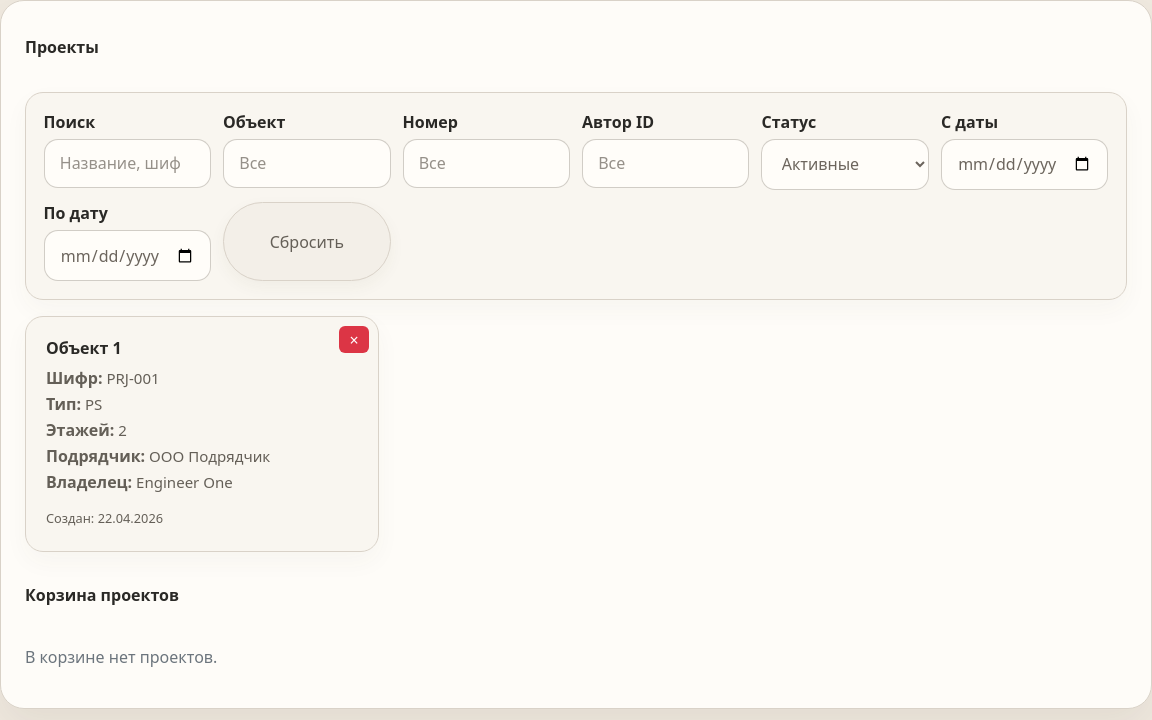
Test case: ProjectList › loads and renders projects with owner, then moves a project to trash after confirmation
Expected: the heading "Объект 1" is shown, [46, 337, 122, 359]
Expected: the text "Шифр: PRJ-001" is shown, [46, 367, 160, 389]
Click the button titled "Переместить проект".
click(354, 340)  # box [339, 326, 369, 353]
(page scrolled)
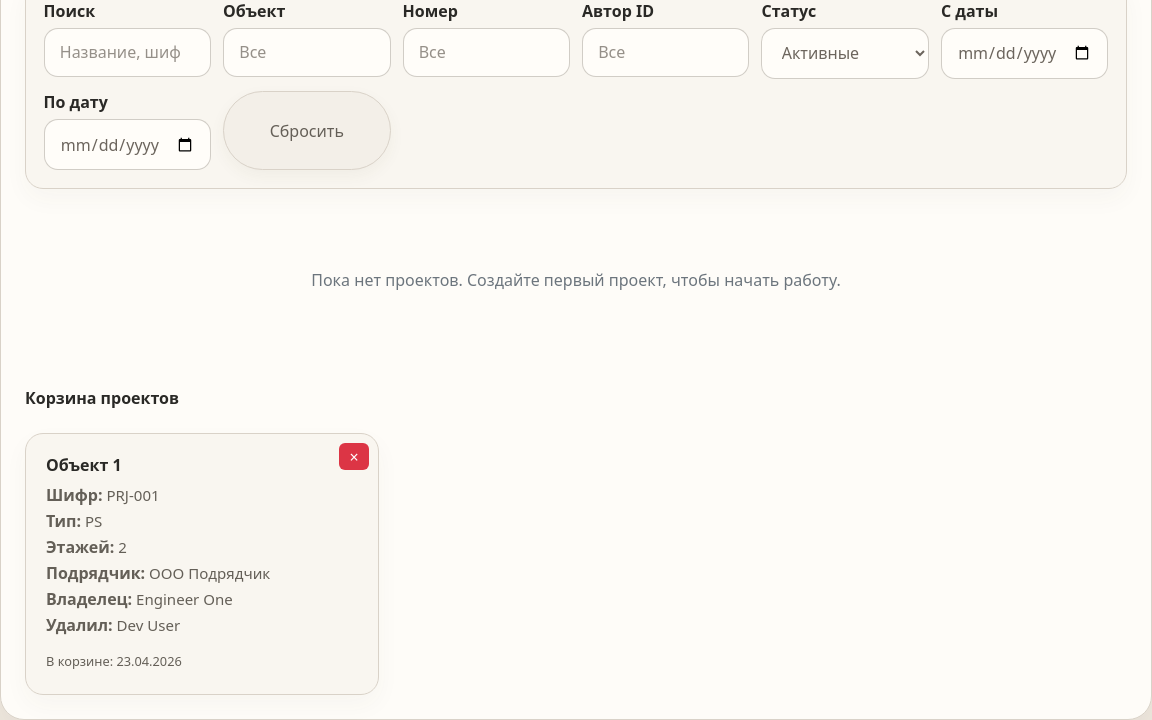
Expected: the heading "Корзина проектов" is shown, [25, 387, 179, 409]
Expected: the text "Пока нет проектов" is shown, [311, 269, 841, 291]
Expected: the text "Удалил: Dev User" is shown, [46, 614, 180, 636]
